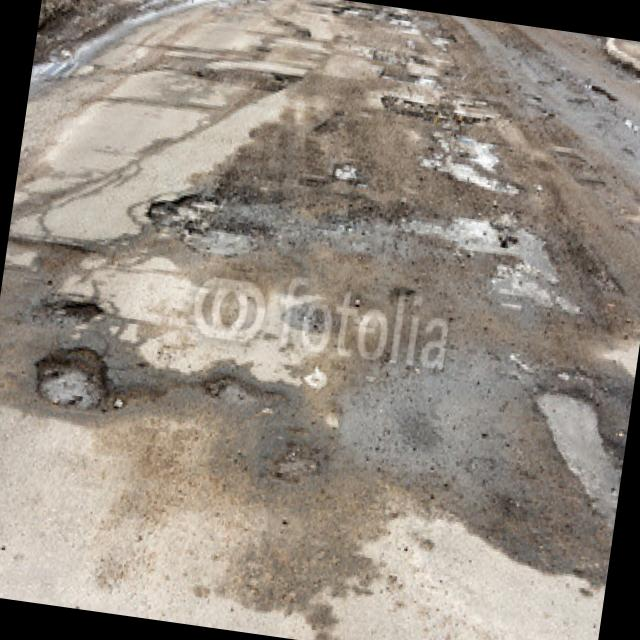Potholes: (313, 184, 601, 328), (138, 138, 288, 303), (502, 374, 634, 540), (188, 349, 336, 497), (372, 24, 508, 142), (21, 338, 140, 418), (190, 54, 325, 124), (324, 0, 419, 49), (43, 284, 113, 336)
